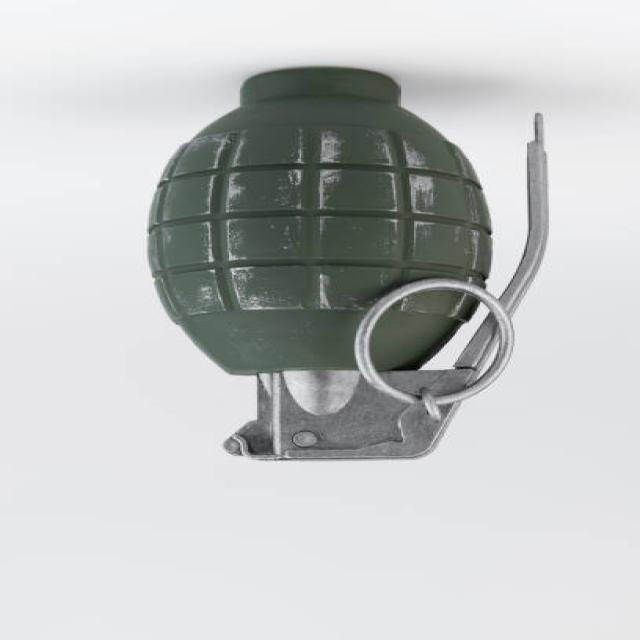grenade: (138, 63, 560, 470)
